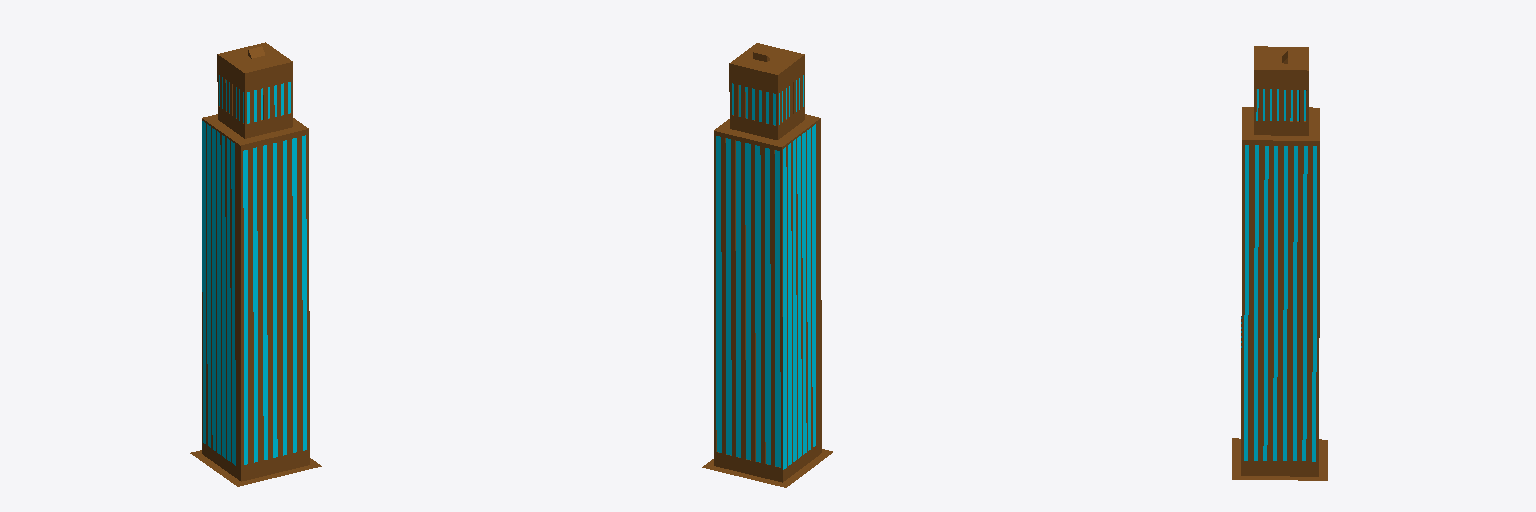
Rendered from skyscraper4.obj.
3 views of the same model, side by side, from view 1: azimuth 30°, elevation 25°; view 2: azimuth 150°, elevation 25°; view 3: azimuth 270°, elevation 25° (orthographic).
Visible parts, largest first — view 1: hochhaus.003_Würfel.016; view 2: hochhaus.003_Würfel.016; view 3: hochhaus.003_Würfel.016.
Boxes of the visible parts, box(x1,y1,x2,y2) form: hochhaus.003_Würfel.016: box(190, 42, 321, 486); hochhaus.003_Würfel.016: box(702, 43, 832, 487); hochhaus.003_Würfel.016: box(1232, 46, 1327, 480).
Size of the model in its own units: 11.82 by 54.53 by 11.64.